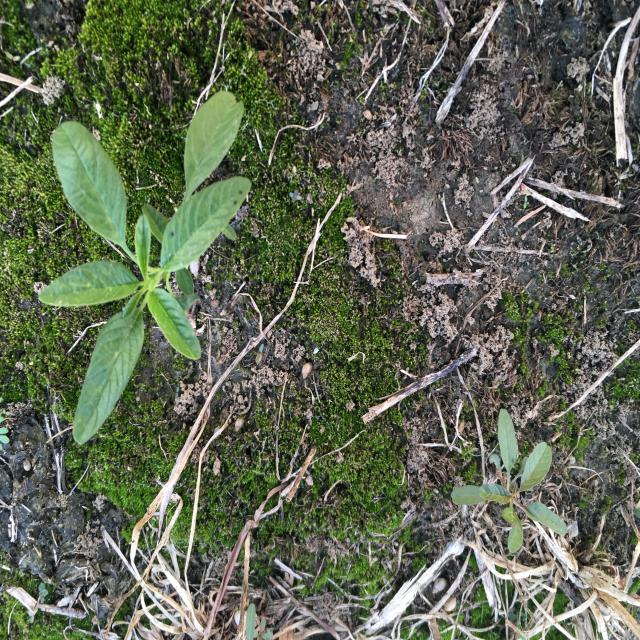Waterhemp: (36, 90, 253, 448), (450, 406, 569, 555)
